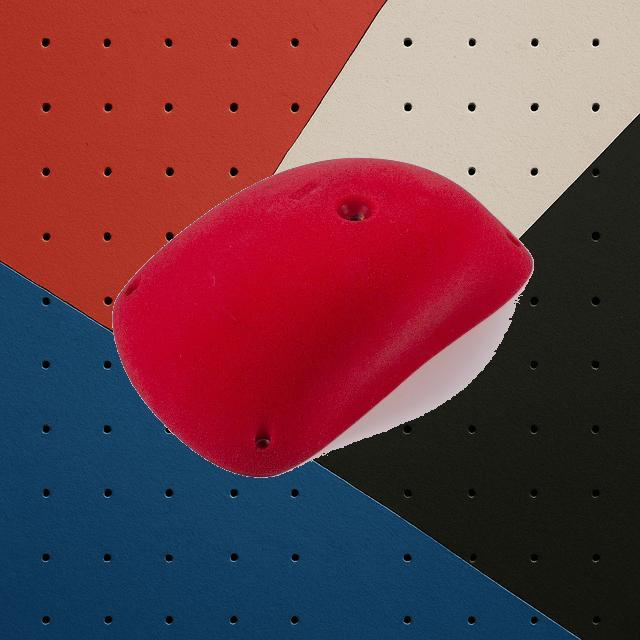Sloper: (110, 158, 536, 478)
